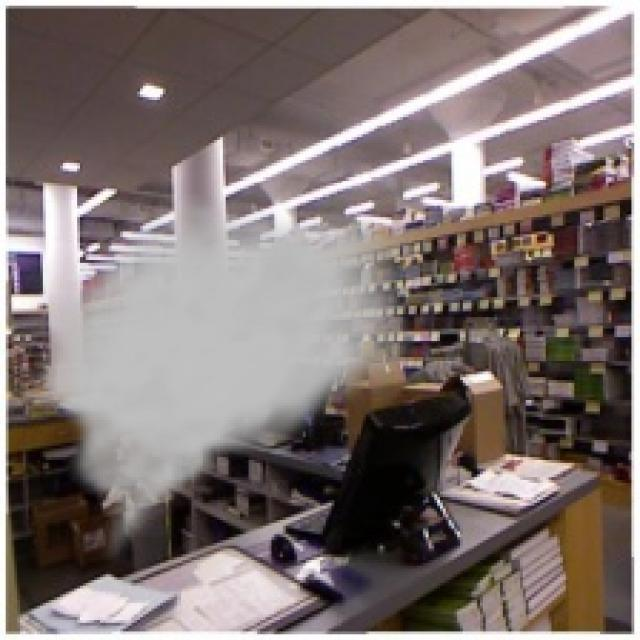Smoke: (19, 194, 432, 572)
